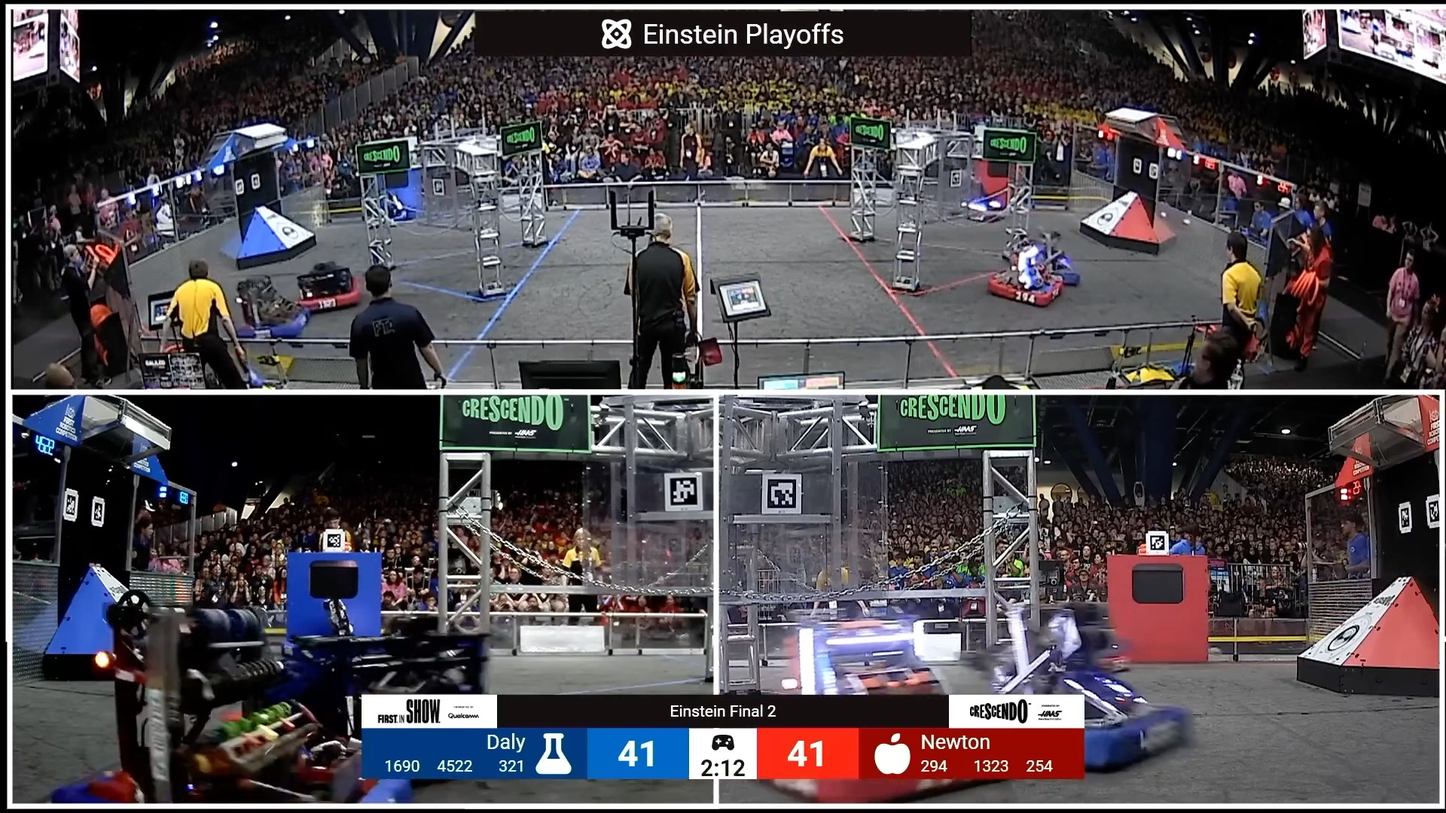bumpers: (882, 694, 1205, 786), (984, 269, 1079, 311), (229, 308, 320, 342), (294, 276, 370, 315)
